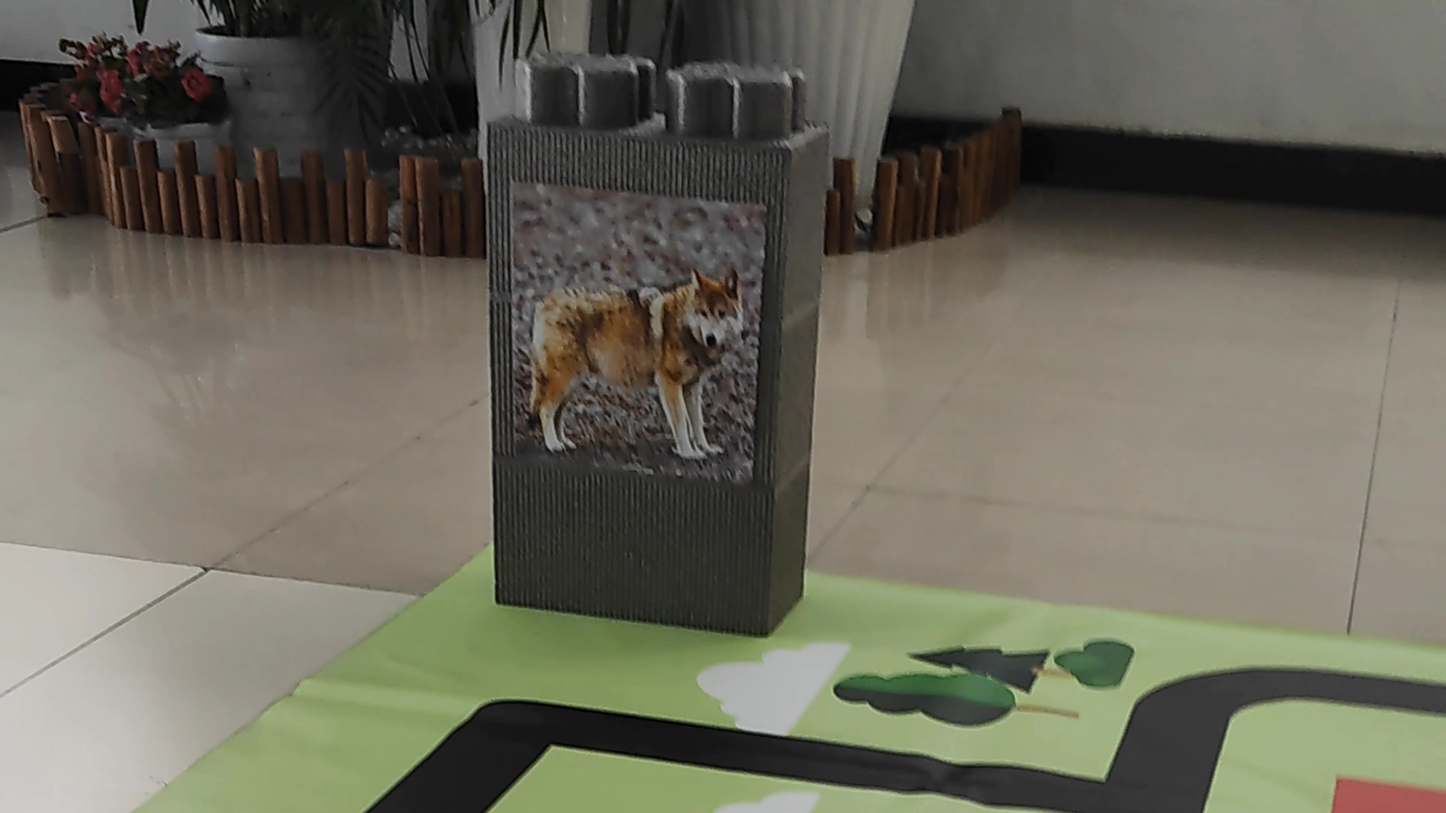wolf: (510, 176, 758, 459)
